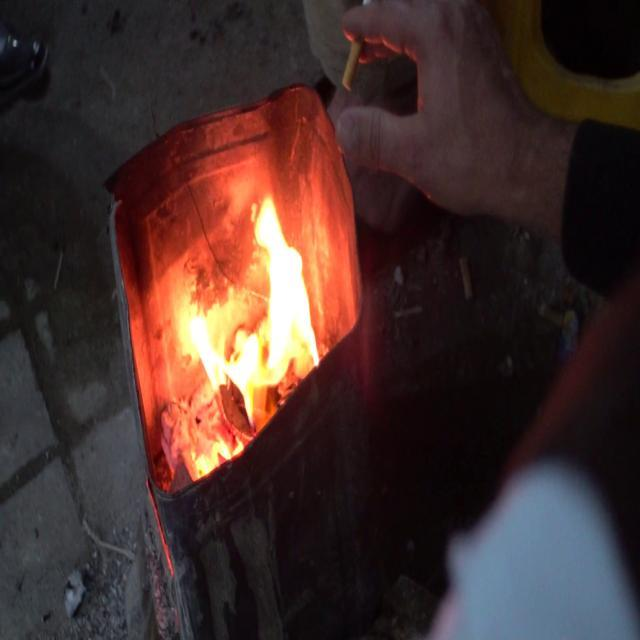Fire: (181, 184, 320, 428)
